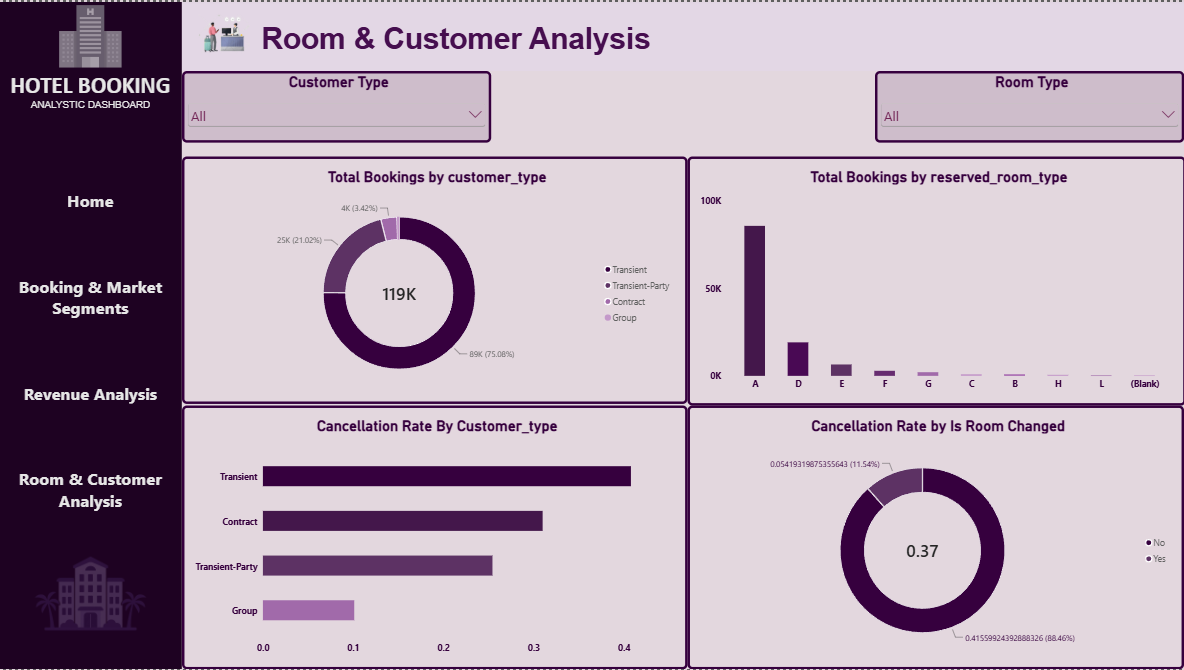

What the dashboard file says about the page in this screenshot:
{"tool":"powerbi","page":{"name":"Room & Customer Analysis","canvas":[1920,1080],"ordinal":3},"visuals":[{"type":"textbox","box":[10,0,280,280],"z":0},{"type":"donutChart","fields":{"Category":["Dim Customer.customer_type"],"Y":["My Measures.Total Bookings"]},"box":[296.3,250.2,818.5,400.8],"z":8000},{"type":"barChart","title":"Cancellation Rate By Customer_type","fields":{"Category":["Dim Customer.customer_type"],"Y":["My Measures.Cancellation Rate"]},"box":[296.3,653.4,818.5,427.5],"z":9000},{"type":"clusteredColumnChart","fields":{"Category":["Dim Room.reserved_room_type"],"Y":["My Measures.Total Bookings"]},"box":[1114.8,250.2,806.4,403.2],"z":12000},{"type":"slicer","title":"Customer Type","fields":{"Values":["Dim Customer.customer_type"]},"box":[296.3,97.2,500.3,116],"z":13000},{"type":"slicer","title":"Room Type","fields":{"Values":["Dim Room.reserved_room_type"]},"box":[1418.4,102,500.3,116],"z":14000},{"type":"shape","box":[0,0,296.3,1080.8],"z":14001},{"type":"shape","box":[296.3,0,1622.5,97.2],"z":14002},{"type":"textbox","box":[425,31.6,682.5,65.6],"z":14003},{"type":"pageNavigator","box":[0,247.7,296.3,619.4],"z":14006},{"type":"image","box":[51,0,194,111],"z":14007},{"type":"textbox","box":[0,111.7,296.3,136],"z":14008},{"type":"image","box":[0,867.1,296.3,194.3],"z":14009},{"type":"image","box":[262.3,0,201.6,97.2],"z":14010},{"type":"donutChart","fields":{"Category":["Dim Room.Is Room Changed"],"Y":["My Measures.Cancellation Rate"]},"box":[1114.8,653.4,803.9,427.5],"z":14011}]}

Visuals, with their boxes in screenshot pixels (x1, y1, x2, y2), scaled from the page's 1920x1080 canvas onto the 1184x670 screenshot:
textbox: crop(6, 0, 179, 174)
donutChart - Dim Customer.customer_type x My Measures.Total Bookings: crop(183, 155, 687, 404)
"Cancellation Rate By Customer_type" barChart: crop(183, 405, 687, 669)
clusteredColumnChart - Dim Room.reserved_room_type x My Measures.Total Bookings: crop(687, 155, 1183, 405)
"Customer Type" slicer: crop(183, 60, 491, 132)
"Room Type" slicer: crop(875, 63, 1183, 135)
shape: crop(0, 0, 183, 669)
shape: crop(183, 0, 1183, 60)
textbox: crop(262, 20, 683, 60)
pageNavigator: crop(0, 154, 183, 538)
image: crop(31, 0, 151, 69)
textbox: crop(0, 69, 183, 154)
image: crop(0, 538, 183, 658)
image: crop(162, 0, 286, 60)
donutChart - Dim Room.Is Room Changed x My Measures.Cancellation Rate: crop(687, 405, 1183, 669)
